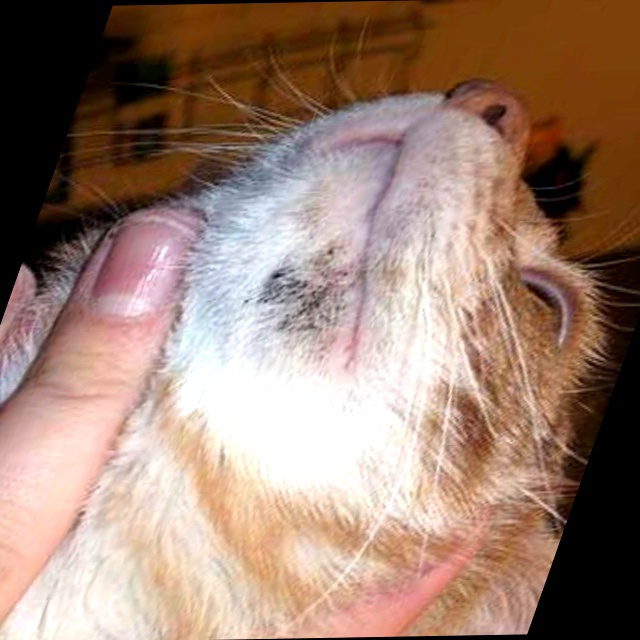acne: (238, 245, 369, 341)
